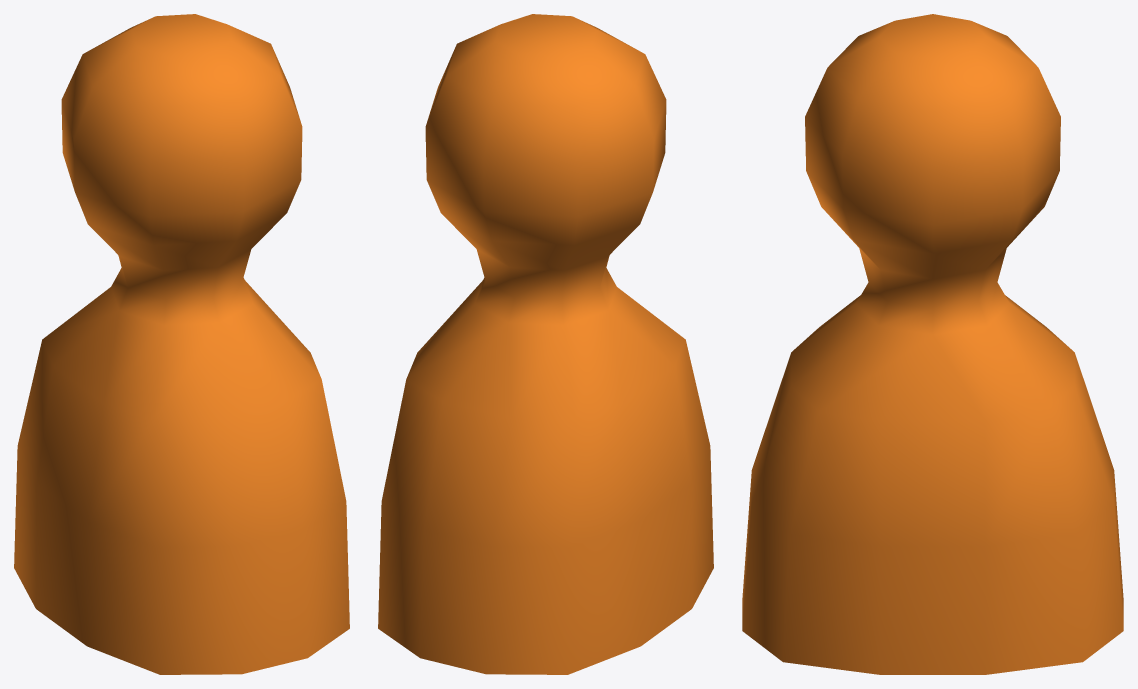
The model's file is Pawn_Orange.fbx.
The picture shows the model from 3 angles, left to right: view 1: azimuth 30°, elevation 25°; view 2: azimuth 150°, elevation 25°; view 3: azimuth 270°, elevation 25°; orthographic projection. The views are drawn at different scales.
Visible parts, largest first — view 1: Pawn_Orange; view 2: Pawn_Orange; view 3: Pawn_Orange.
Boxes of the visible parts, <box> form: Pawn_Orange: <box>14,14,349,674</box>; Pawn_Orange: <box>378,14,713,674</box>; Pawn_Orange: <box>742,14,1123,674</box>.
Bounding box in the file's own units: 63.06 × 141 × 84.16.
